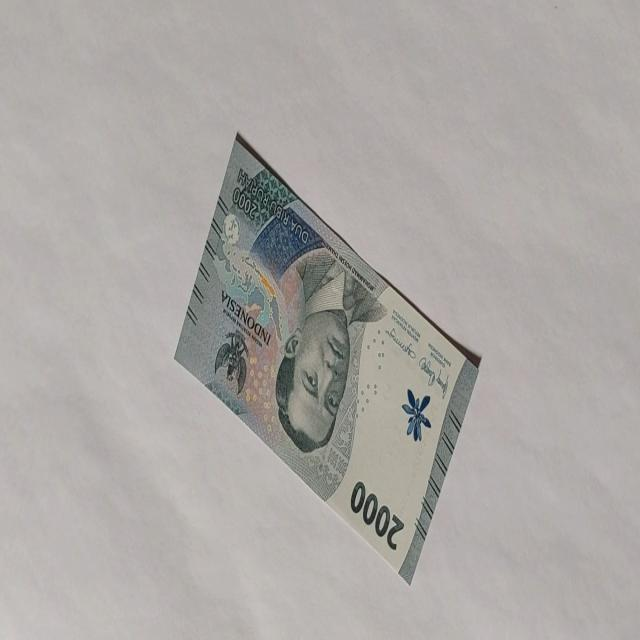dua ribu rupiah: (173, 130, 481, 586), (273, 250, 387, 456)
